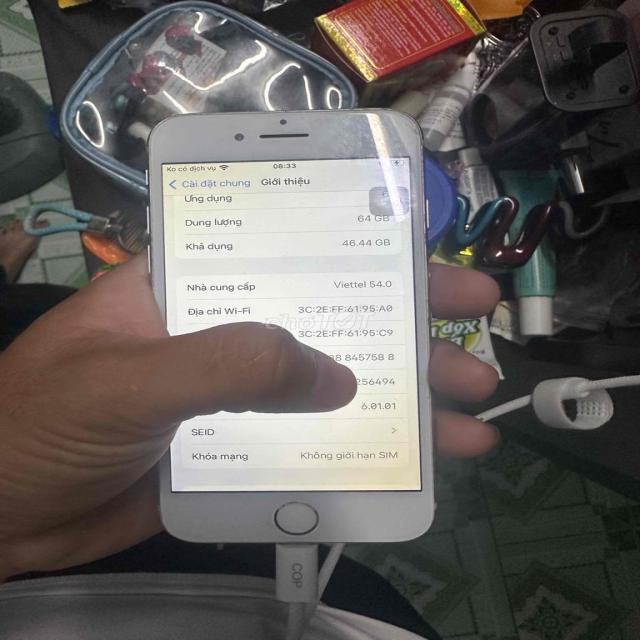scratch: (321, 105, 421, 164), (156, 108, 300, 126)
